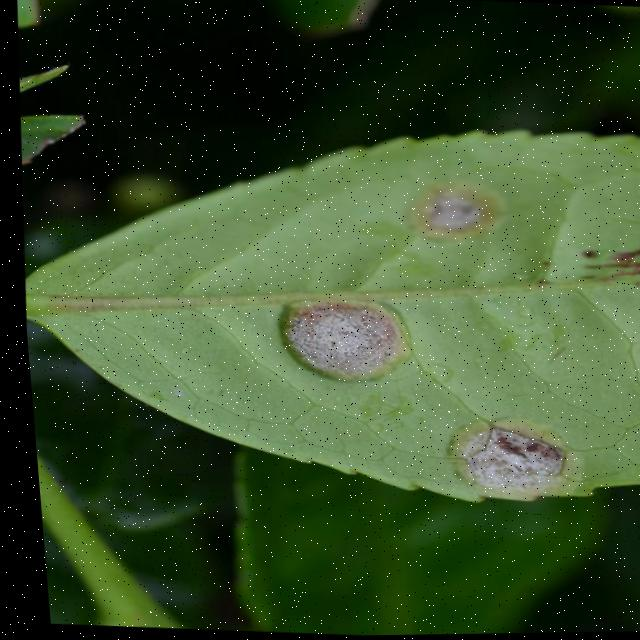Tea cake: (278, 287, 408, 384), (455, 424, 583, 506), (415, 180, 515, 248)
